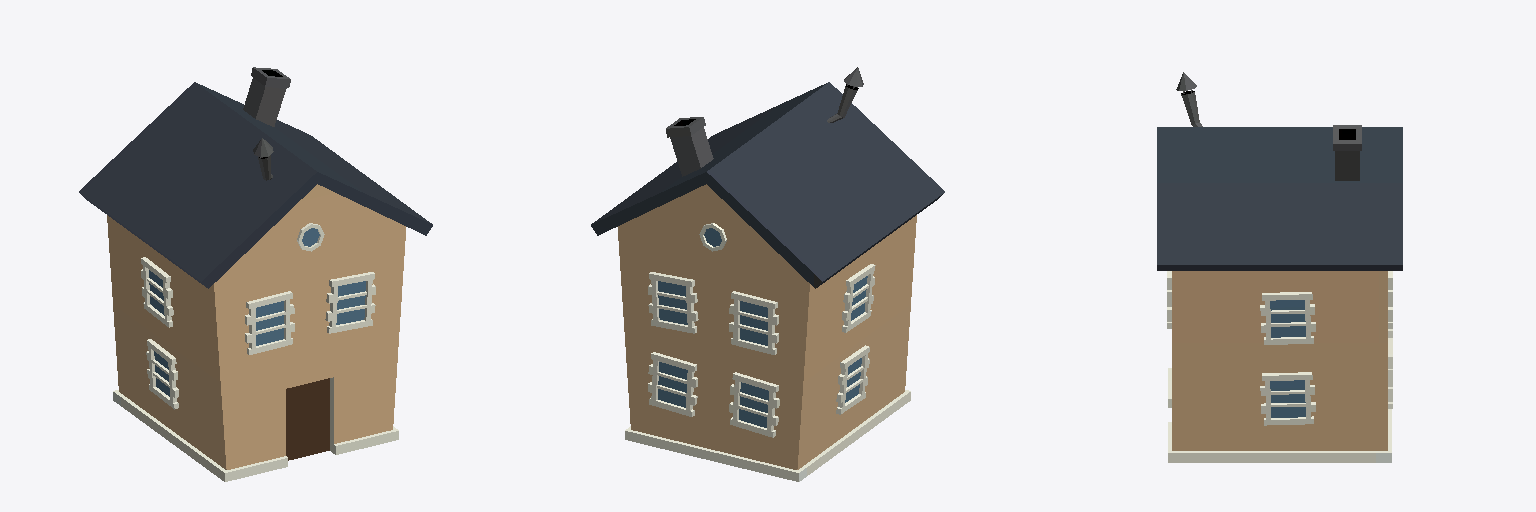
3 views of the same model, side by side, from view 1: azimuth 30°, elevation 25°; view 2: azimuth 150°, elevation 25°; view 3: azimuth 270°, elevation 25° (orthographic).
Visible parts, largest first — view 1: casa1:h2; view 2: casa1:h2; view 3: casa1:h2.
Boxes of the visible parts, box(x1,y1,x2,y2) form: casa1:h2: box(79, 67, 432, 481); casa1:h2: box(591, 67, 944, 481); casa1:h2: box(1157, 72, 1402, 462).
Size of the model in its own units: 18.57 by 25.02 by 16.99.
1 materials, 1 textured.